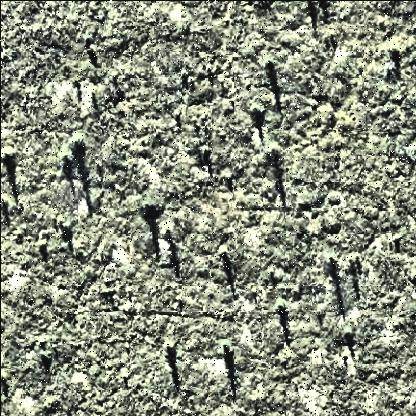tree-top: (140, 199, 163, 221), (68, 132, 89, 156), (266, 143, 284, 163), (2, 146, 18, 167), (249, 100, 267, 118), (271, 299, 289, 315)
